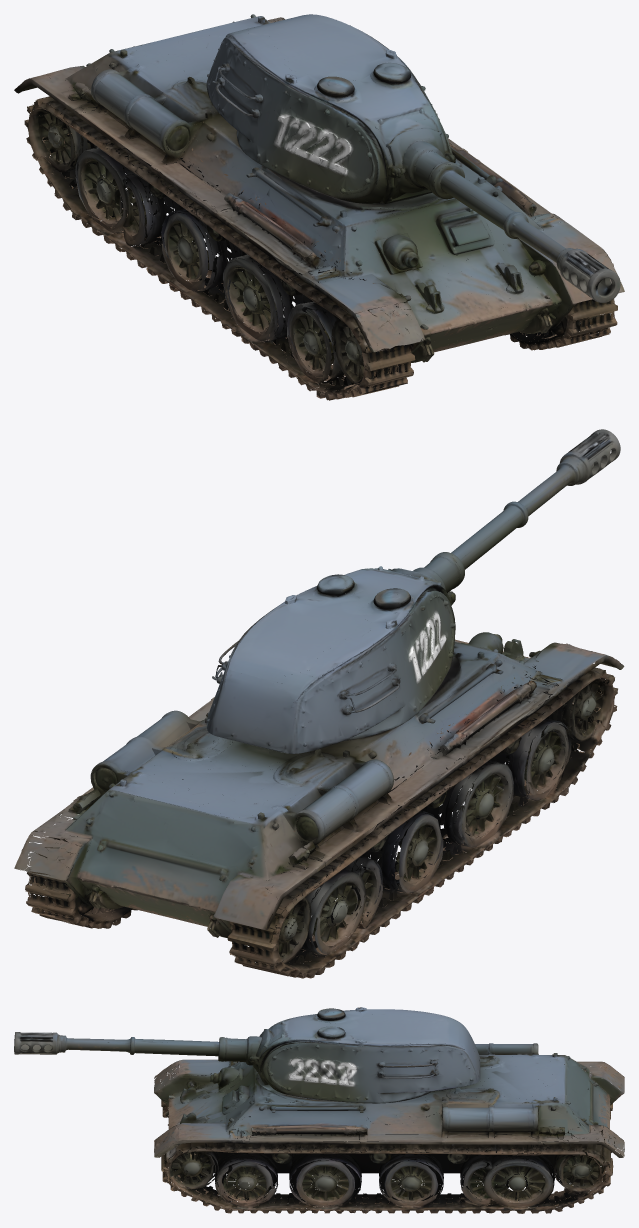
3 views of the same model, one above another, from view 1: azimuth 30°, elevation 25°; view 2: azimuth 150°, elevation 25°; view 3: azimuth 270°, elevation 25° (orthographic). The views are drawn at different scales.
Visible parts, largest first — view 1: TurretGeometry, RoadWheelsLeft, HullGeometry, TrackLeft, GunBarrel, RoadWheelsRight; view 2: TurretGeometry, RoadWheelsLeft, HullGeometry, TrackLeft, RoadWheelsRight, GunBarrel; view 3: TurretGeometry, RoadWheelsRight, HullGeometry, TrackRight, GunBarrel, RoadWheelsLeft.
Part boxes in pixels (left/top/right/bottom): TurretGeometry: left=65, top=14, right=543, bottom=279; RoadWheelsLeft: left=14, top=65, right=425, bottom=400; HullGeometry: left=65, top=14, right=580, bottom=383; TrackLeft: left=30, top=75, right=365, bottom=333; GunBarrel: left=391, top=163, right=620, bottom=302; RoadWheelsRight: left=268, top=17, right=624, bottom=350; TurretGeometry: left=90, top=552, right=544, bottom=879; RoadWheelsLeft: left=214, top=643, right=624, bottom=978; HullGeometry: left=62, top=639, right=567, bottom=962; TrackLeft: left=266, top=666, right=556, bottom=968; RoadWheelsRight: left=14, top=730, right=197, bottom=928; GunBarrel: left=433, top=429, right=620, bottom=654; TurretGeometry: left=218, top=1007, right=564, bottom=1136; RoadWheelsRight: left=154, top=1103, right=624, bottom=1213; HullGeometry: left=154, top=1053, right=623, bottom=1201; TrackRight: left=236, top=1129, right=585, bottom=1209; GunBarrel: left=14, top=1032, right=224, bottom=1122; RoadWheelsLeft: left=154, top=1059, right=624, bottom=1118.
Size of the model in its own units: 3.08 by 2.74 by 9.8.
Materials: 1 (1 with a texture image).
